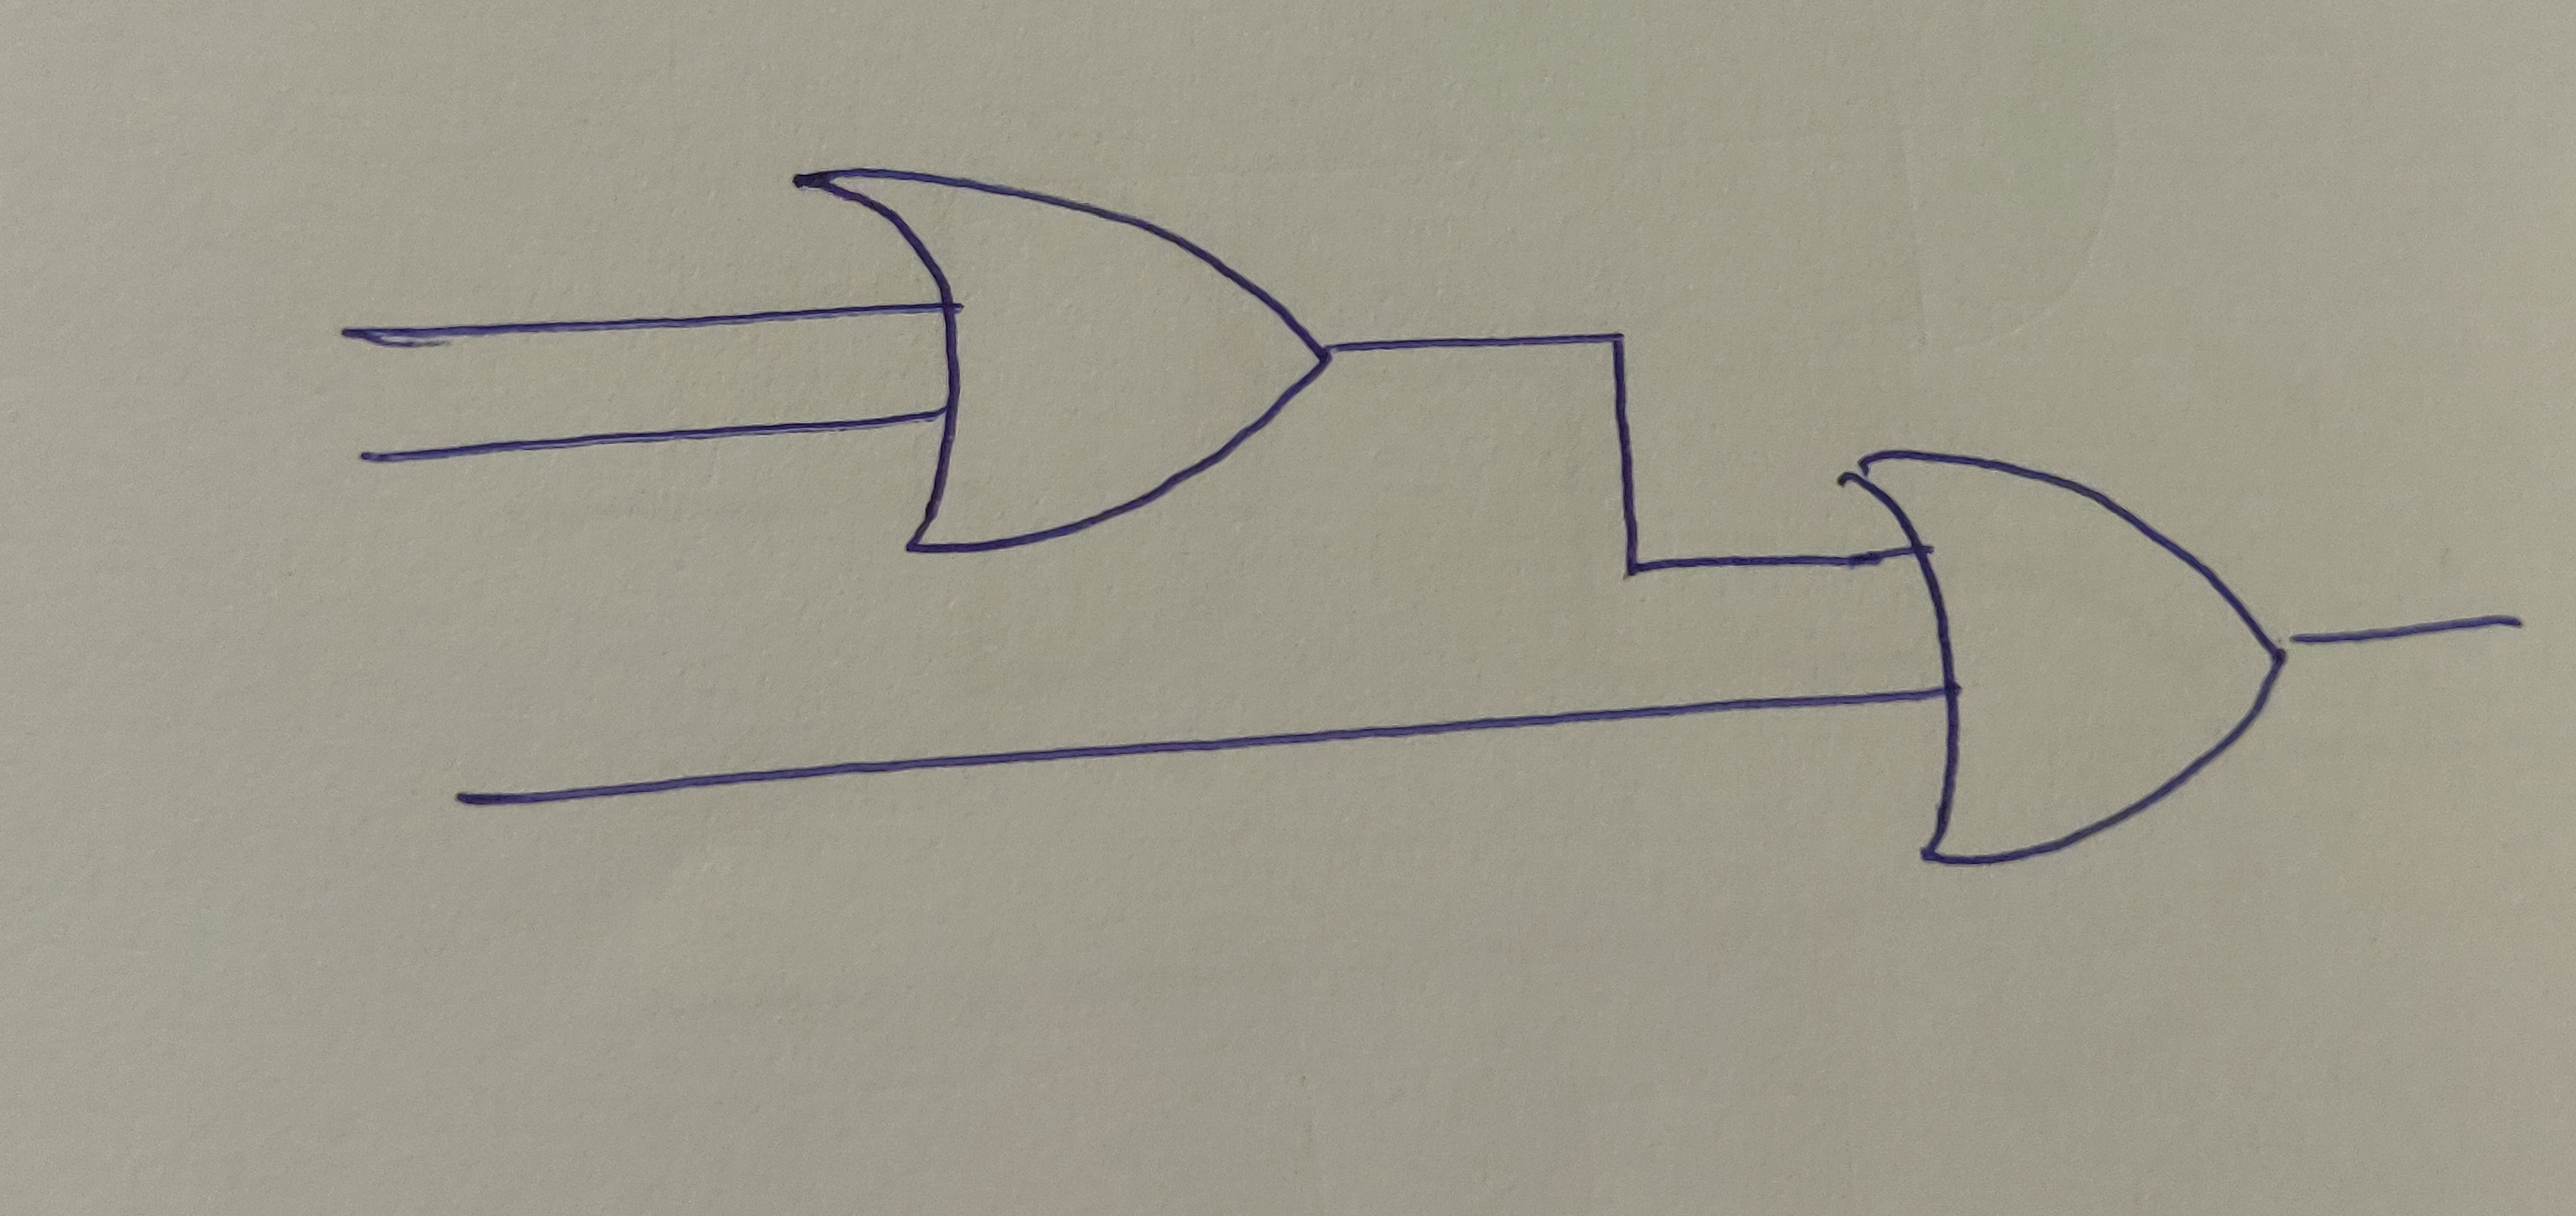or: (780, 163, 1331, 554), (1833, 445, 2297, 876)
